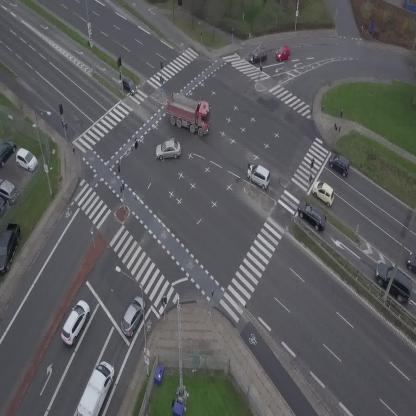car: (57, 297, 95, 347), (293, 196, 333, 235), (115, 293, 150, 337), (308, 177, 340, 208), (243, 161, 275, 191), (326, 150, 354, 177), (155, 140, 181, 160), (118, 76, 140, 97), (247, 47, 269, 64), (273, 45, 292, 62), (406, 253, 416, 272)
lorry: (160, 91, 217, 138), (74, 359, 119, 416)
